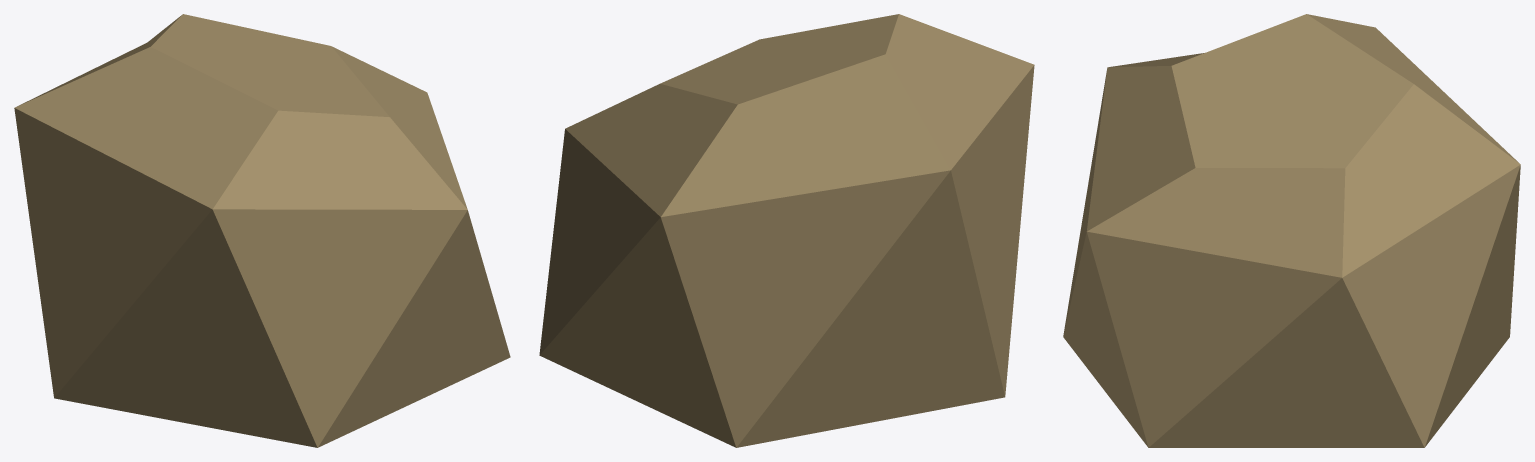
The model's file is env_props_roca_camino.fbx.
3 views of the same model, side by side, from view 1: azimuth 30°, elevation 25°; view 2: azimuth 150°, elevation 25°; view 3: azimuth 270°, elevation 25° (orthographic). The views are drawn at different scales.
Parts seen in each view (by area): view 1: env_props_roca_camino; view 2: env_props_roca_camino; view 3: env_props_roca_camino.
Boxes of the visible parts, x1=… form: env_props_roca_camino: x1=14, y1=14, x2=510, y2=447; env_props_roca_camino: x1=539, y1=14, x2=1034, y2=447; env_props_roca_camino: x1=1063, y1=14, x2=1520, y2=447.
Size of the model in its own units: 3.67 by 2.77 by 3.77.
